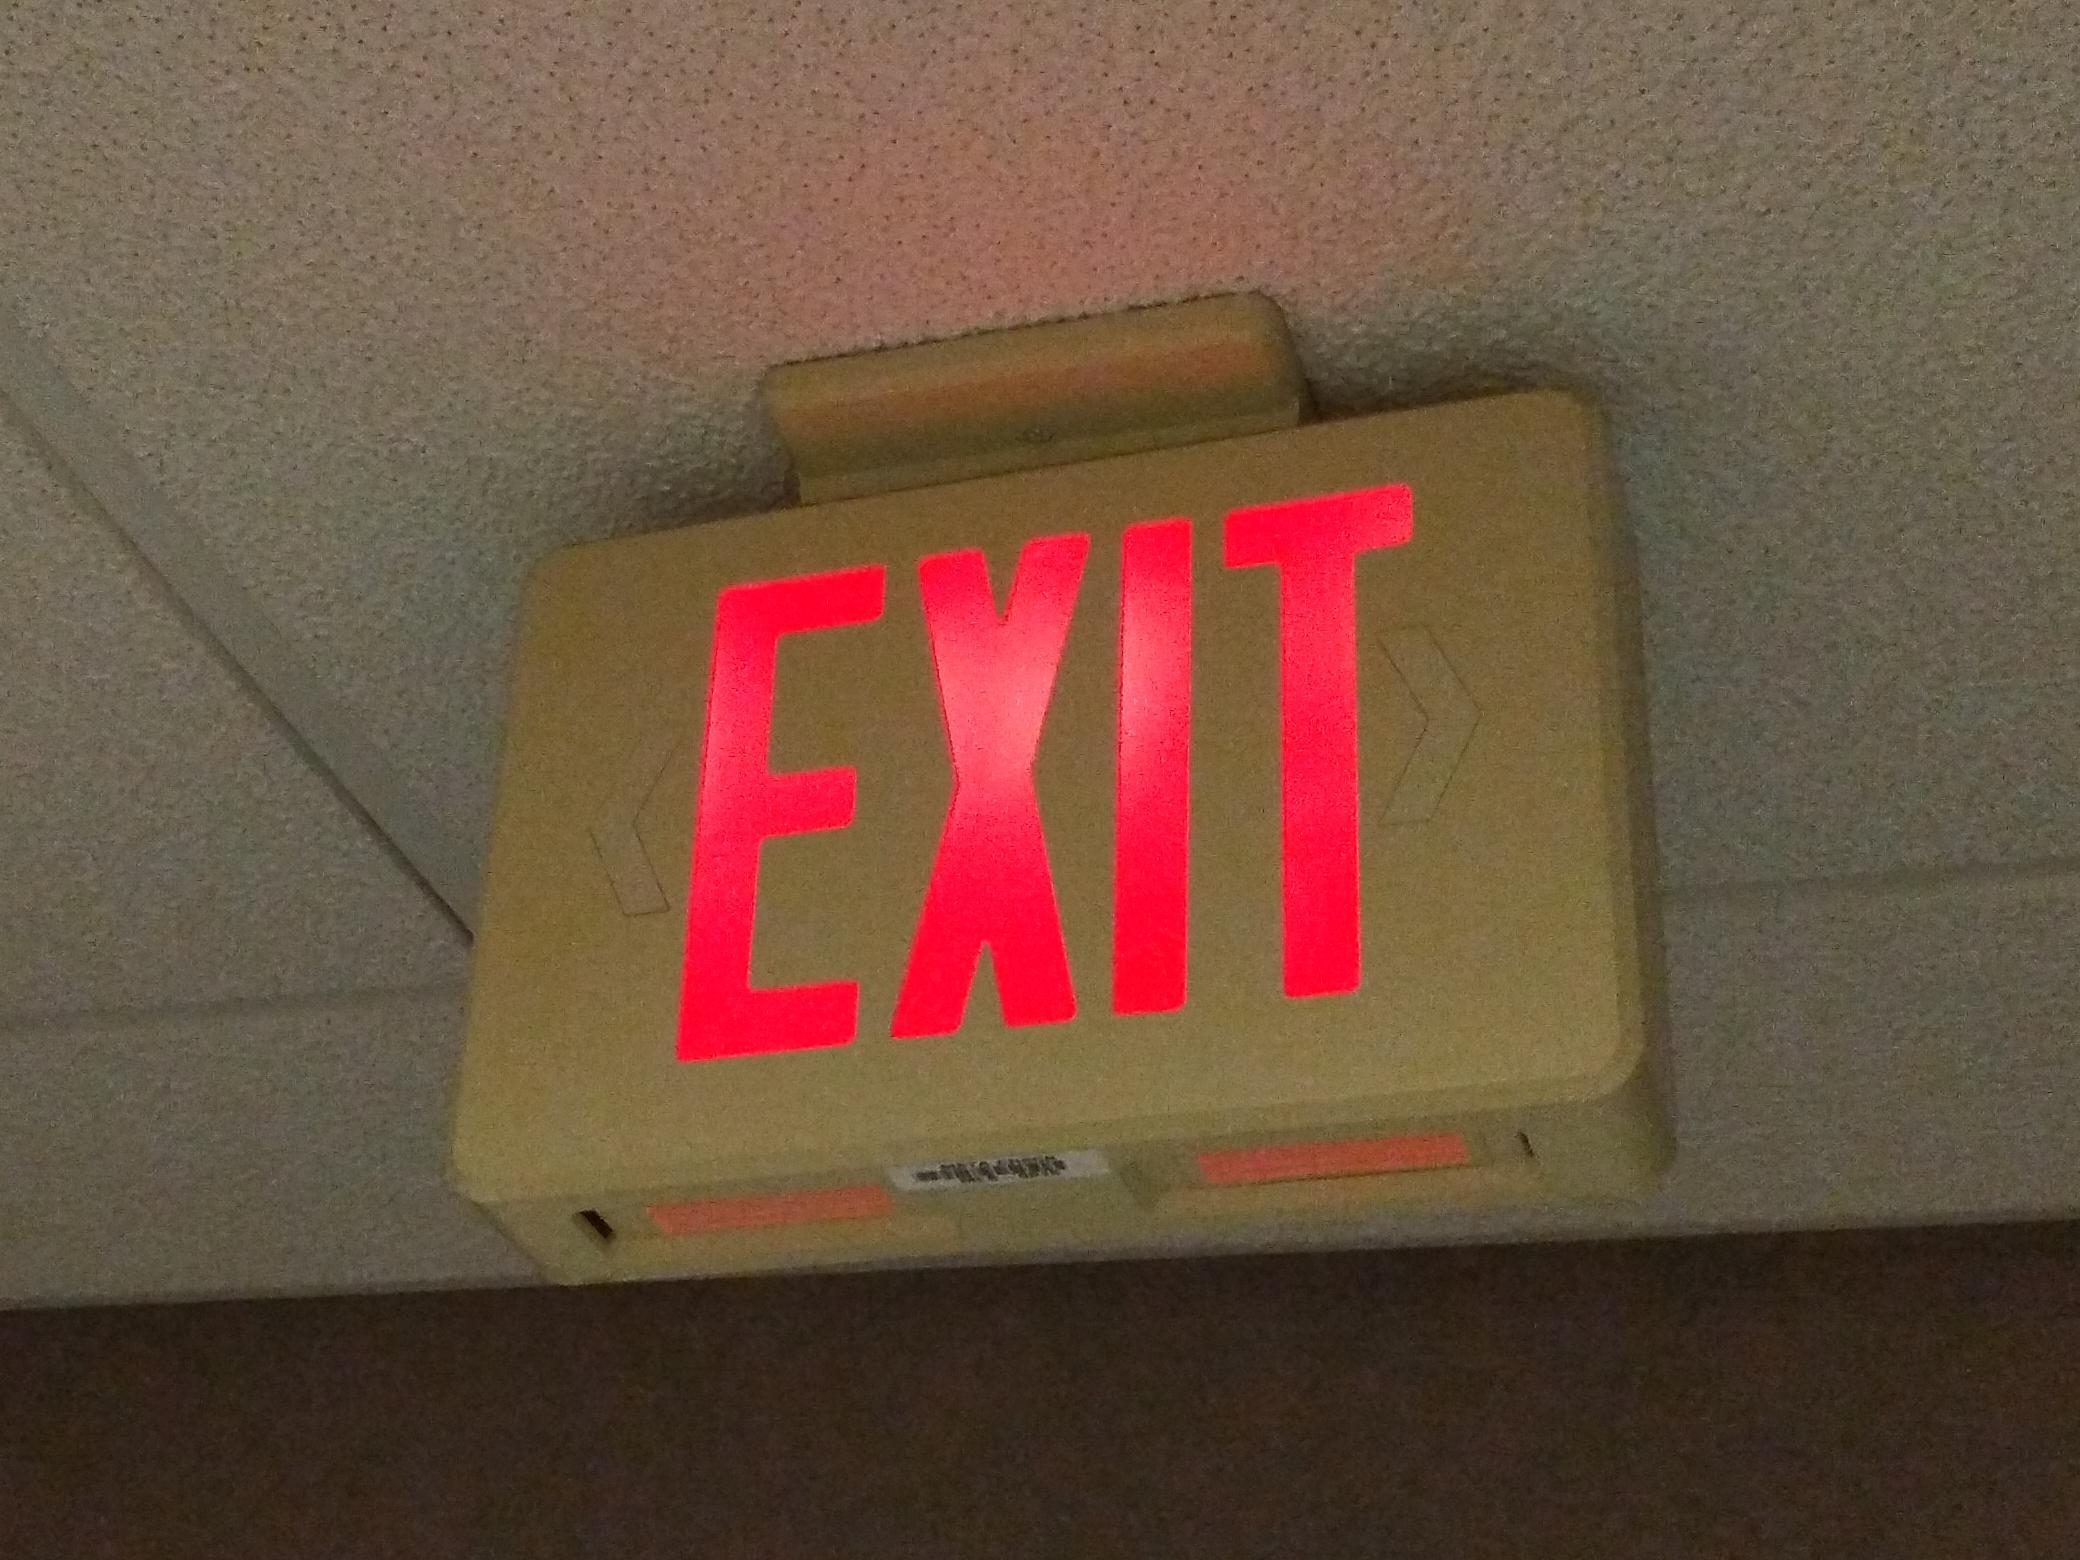sign: (450, 390, 1682, 1291)
